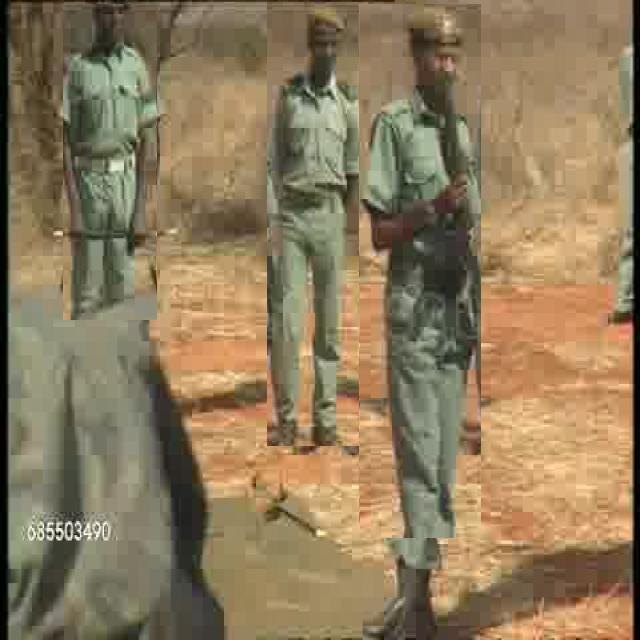poacher: (359, 4, 481, 538), (267, 2, 368, 446), (63, 4, 157, 320)
weapon: (371, 77, 400, 330)
